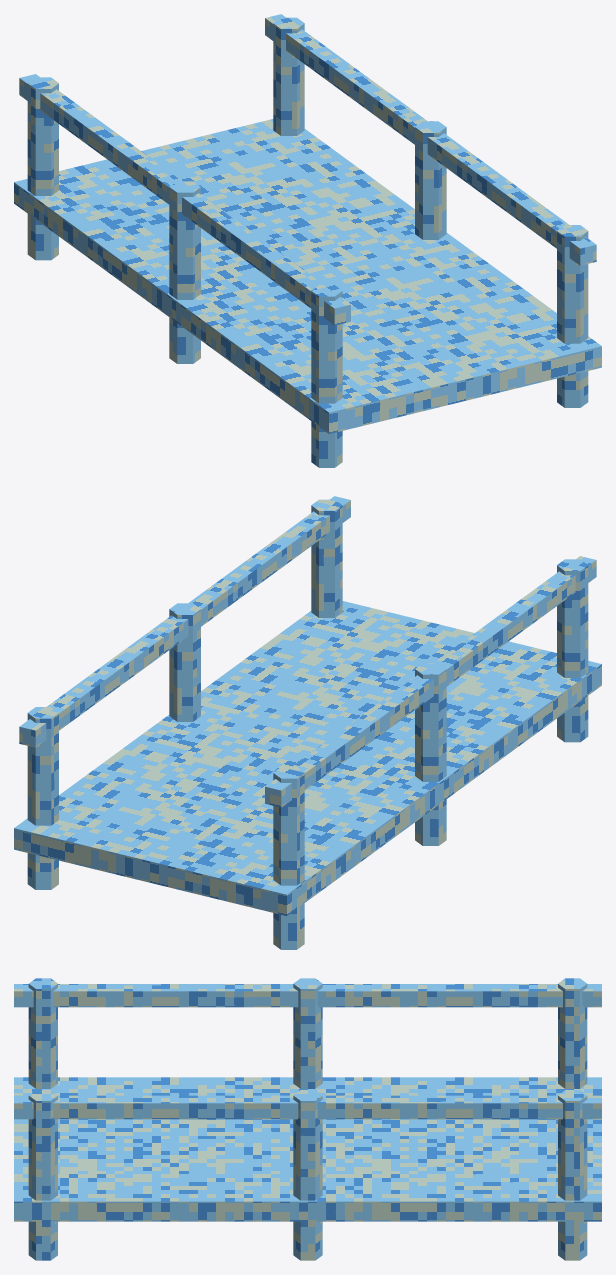
File: r05_ponte_gelo.glb
3 views of the same model, one above another, from view 1: azimuth 30°, elevation 25°; view 2: azimuth 150°, elevation 25°; view 3: azimuth 270°, elevation 25° (orthographic). The views are drawn at different scales.
Parts seen in each view (by area): view 1: r05_ponte_gelo; view 2: r05_ponte_gelo; view 3: r05_ponte_gelo.
Part boxes in pixels (x1,y1,x2,y2): r05_ponte_gelo: (14,14,601,467); r05_ponte_gelo: (14,496,601,949); r05_ponte_gelo: (14,978,601,1260).
Bounding box in the file's own units: 2 × 1.2 × 4.
Materials: 1 (1 with a texture image).
